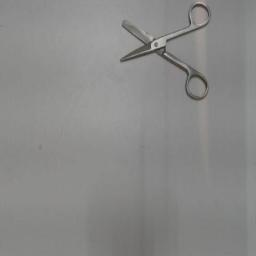Dressing Scissors: (114, 2, 214, 106)
